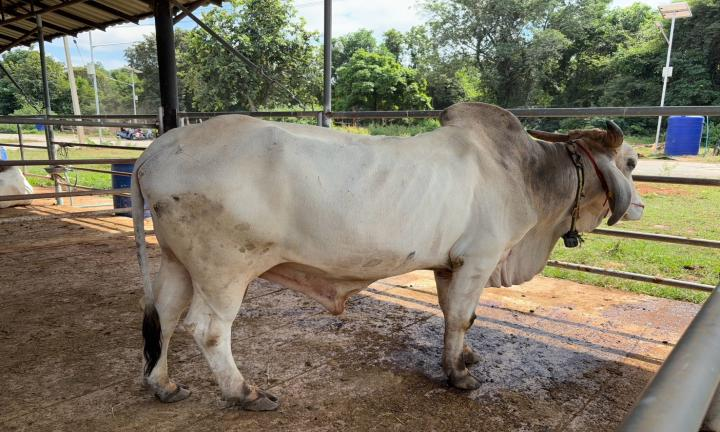Brahman: (132, 102, 643, 410)
